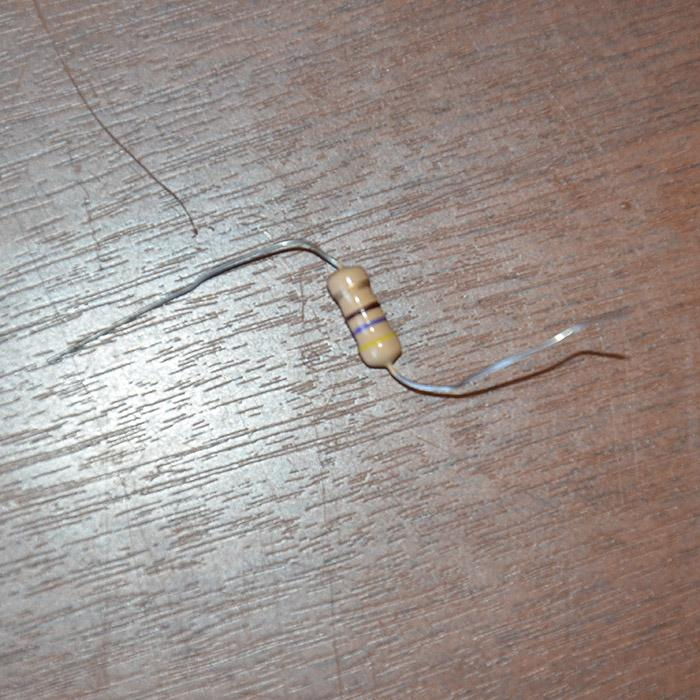resistor: (328, 264, 401, 367)
